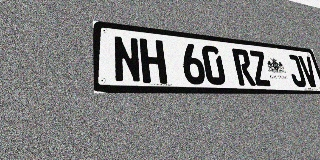0: (201, 45, 226, 85)
6: (180, 43, 207, 85)
H: (139, 38, 167, 84)
J: (285, 54, 307, 87)
N: (112, 35, 142, 83)
R: (231, 48, 256, 86)
V: (298, 55, 319, 87)
Z: (248, 50, 272, 86)
